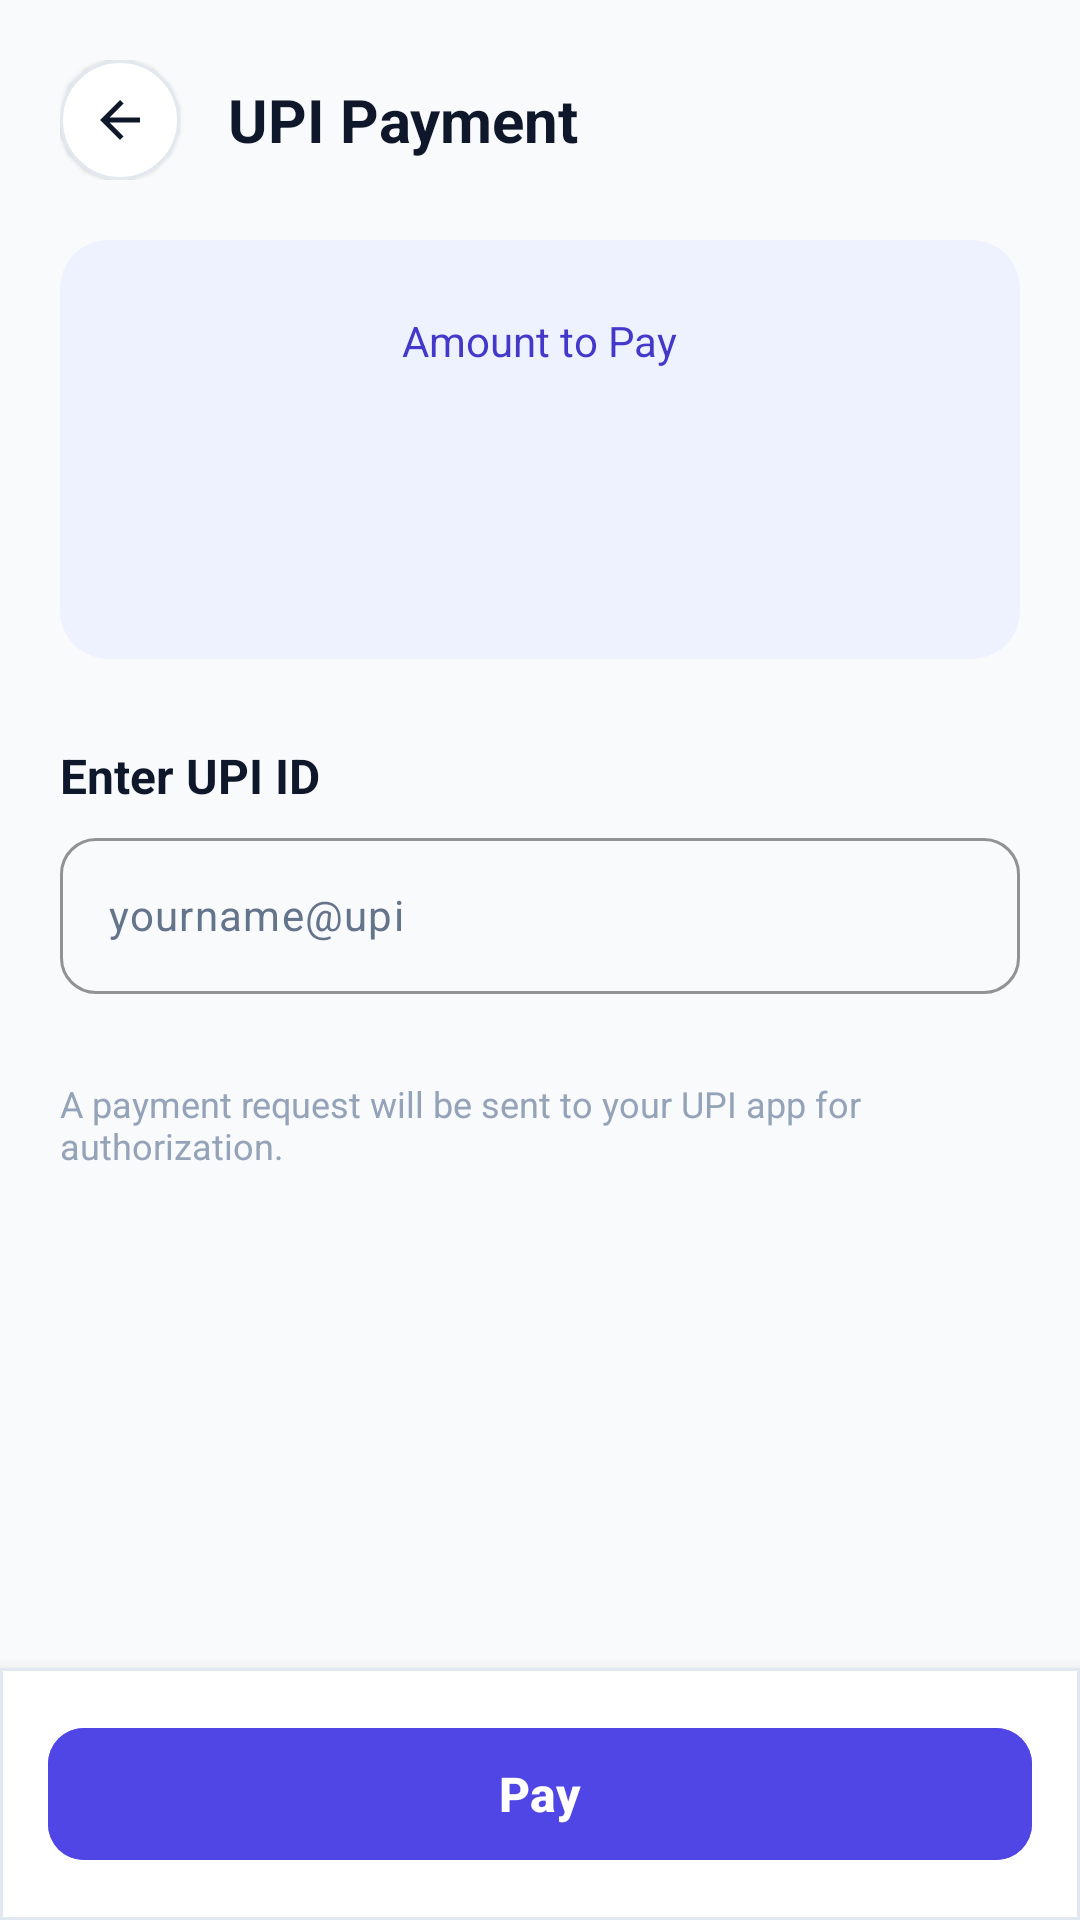

Screen size 1080px x 1920px. Icon name, then its center in pixels as (x,y):
Back: (120,120)
